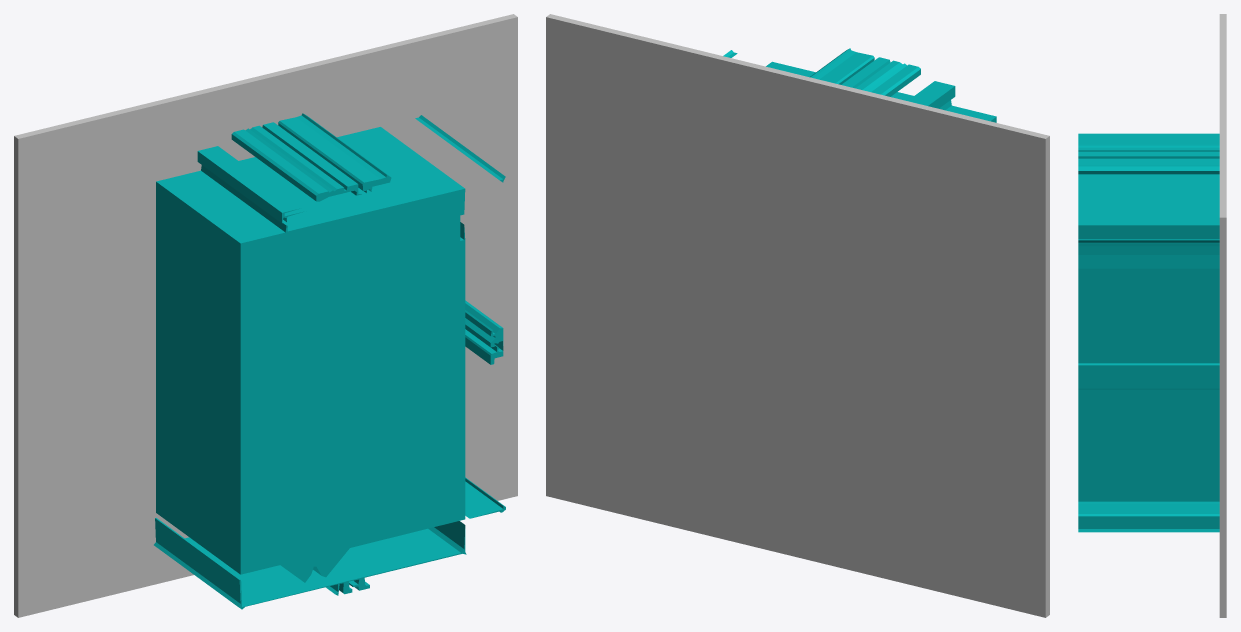
3 renders of one model, left to right at view 1: azimuth 30°, elevation 25°; view 2: azimuth 150°, elevation 25°; view 3: azimuth 270°, elevation 25°, orthographic. The views are drawn at different scales.
Visible parts, largest first — view 1: world; view 2: world; view 3: world.
Part boxes in pixels (box(x1,y1,x2,y2)): world: box(14, 14, 517, 617); world: box(546, 14, 1049, 617); world: box(1078, 14, 1226, 617).
Bounding box in the file's own units: 10.23 × 9.37 × 3.15.
